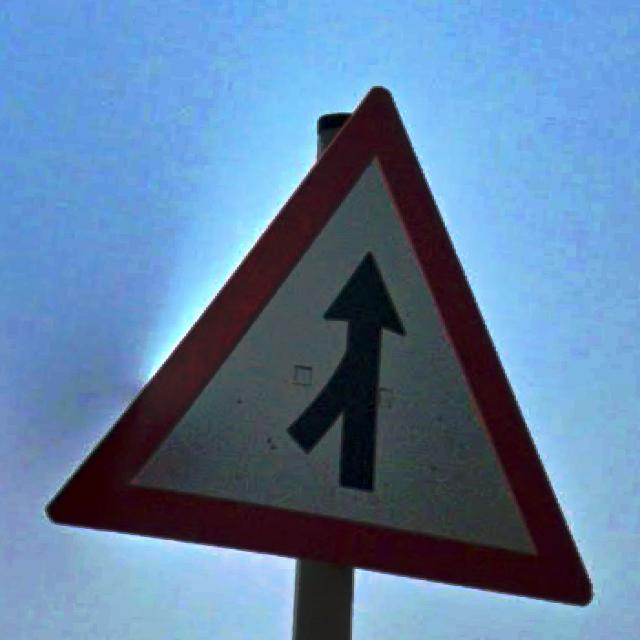leftmerge: (47, 88, 593, 608)
